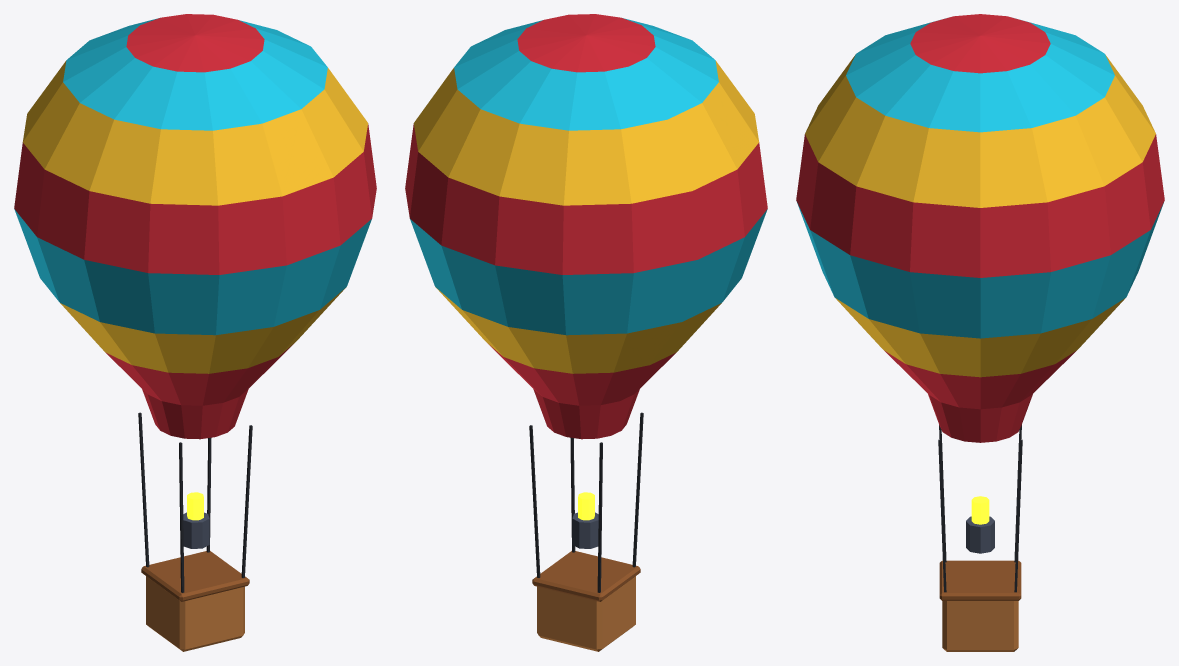
Rendered from HotAirBalloon.fbx.
3 renders of one model, left to right at view 1: azimuth 30°, elevation 25°; view 2: azimuth 150°, elevation 25°; view 3: azimuth 270°, elevation 25°, orthographic.
Visible parts, largest first — view 1: HotAirBalloon; view 2: HotAirBalloon; view 3: HotAirBalloon.
Part boxes in pixels (x1,y1,x2,y2): HotAirBalloon: (14, 14, 376, 651); HotAirBalloon: (405, 14, 767, 651); HotAirBalloon: (796, 14, 1164, 651).
Size of the model in its own units: 12.6 by 22.7 by 12.6.
Materials: 2 (1 with a texture image).
